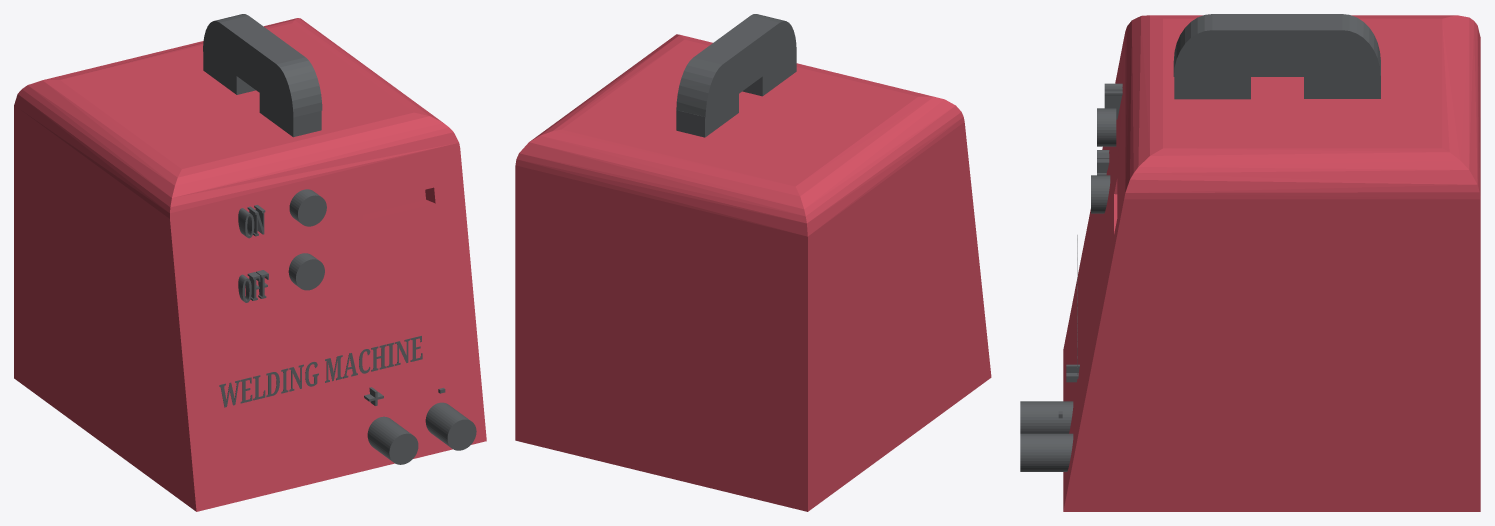
File: weldingMachine.glb
3 renders of one model, left to right at view 1: azimuth 30°, elevation 25°; view 2: azimuth 150°, elevation 25°; view 3: azimuth 270°, elevation 25°, orthographic. The views are drawn at different scales.
Visible parts, largest first — view 1: Mesh_Mesh_head_geo.001_lambert2SG.001; view 2: Mesh_Mesh_head_geo.001_lambert2SG.001; view 3: Mesh_Mesh_head_geo.001_lambert2SG.001.
Part boxes in pixels (x1,y1,x2,y2): Mesh_Mesh_head_geo.001_lambert2SG.001: (14, 14, 486, 511); Mesh_Mesh_head_geo.001_lambert2SG.001: (515, 14, 991, 511); Mesh_Mesh_head_geo.001_lambert2SG.001: (1020, 14, 1480, 511).
Size of the model in its own units: 10 by 12 by 12.
